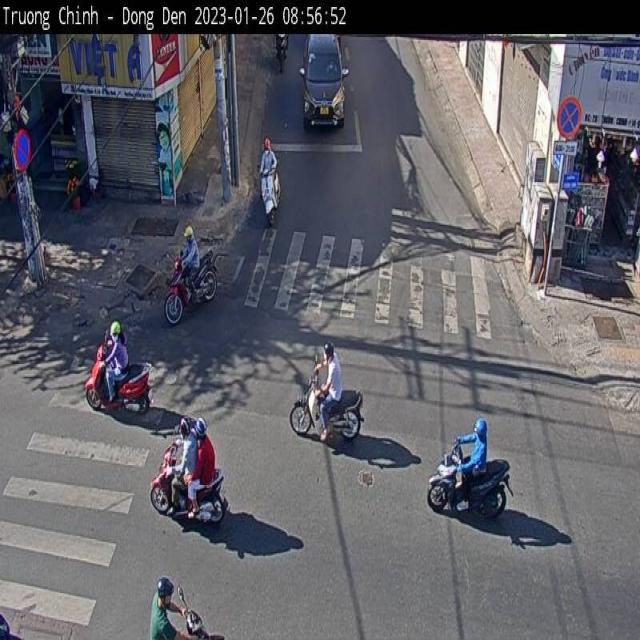with_helmet: (154, 566, 175, 600), (192, 408, 214, 438), (109, 312, 126, 348), (174, 410, 193, 439), (323, 330, 338, 366), (260, 132, 277, 162), (180, 223, 197, 250), (474, 415, 486, 439)
